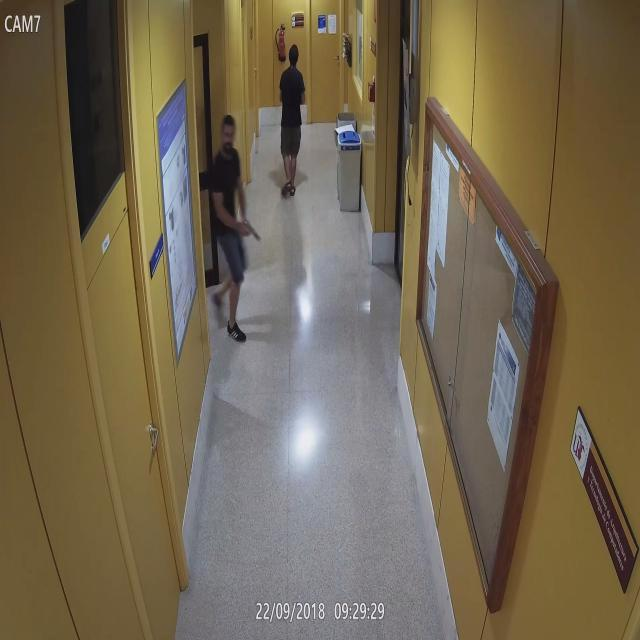weapon: (236, 221, 261, 243)
